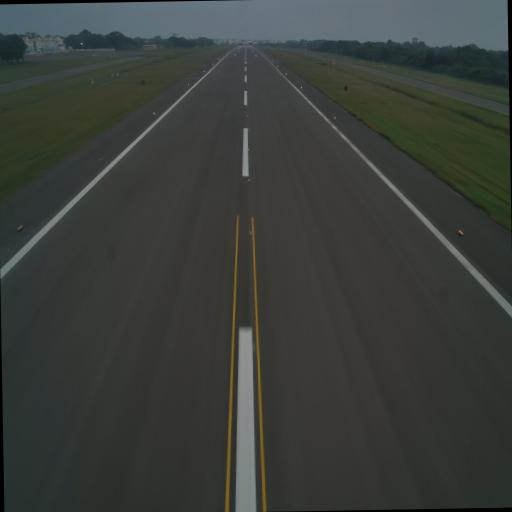on: (250, 337, 260, 358), (454, 224, 465, 240), (14, 220, 26, 234), (248, 226, 255, 238), (246, 174, 252, 182), (152, 109, 158, 117), (332, 113, 337, 122), (246, 145, 251, 152)
